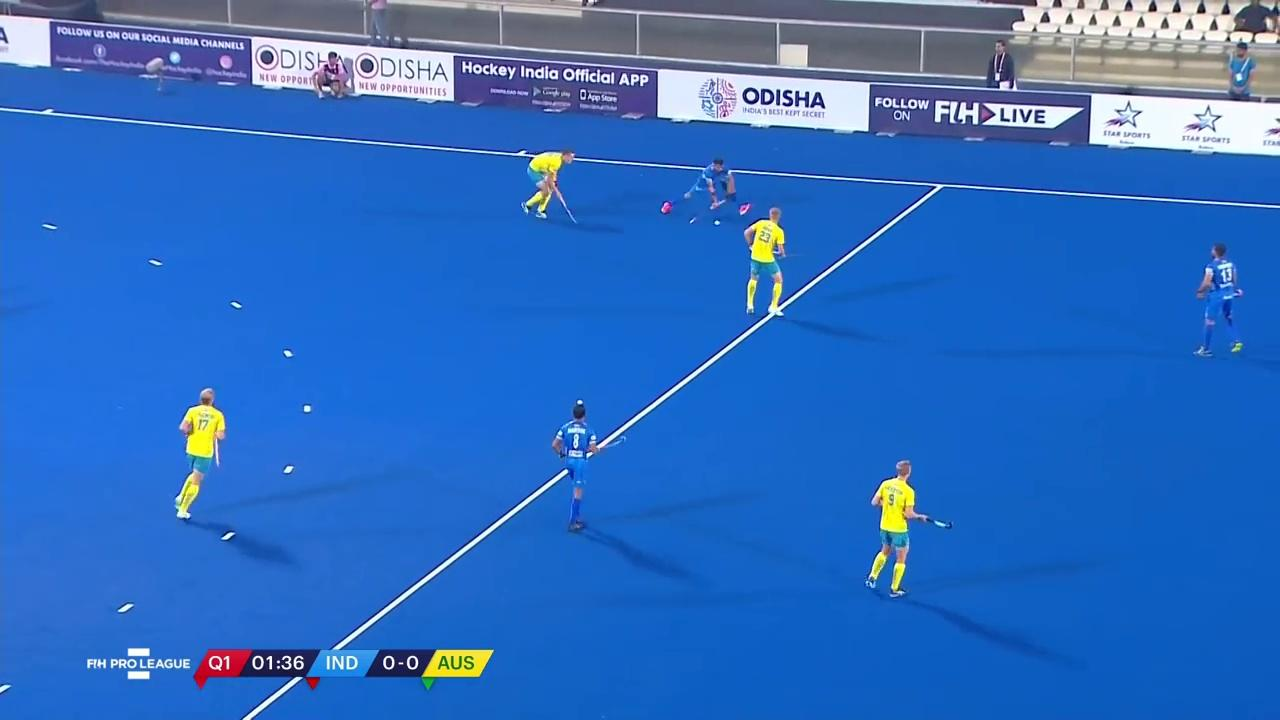ball: (712, 218, 723, 229)
